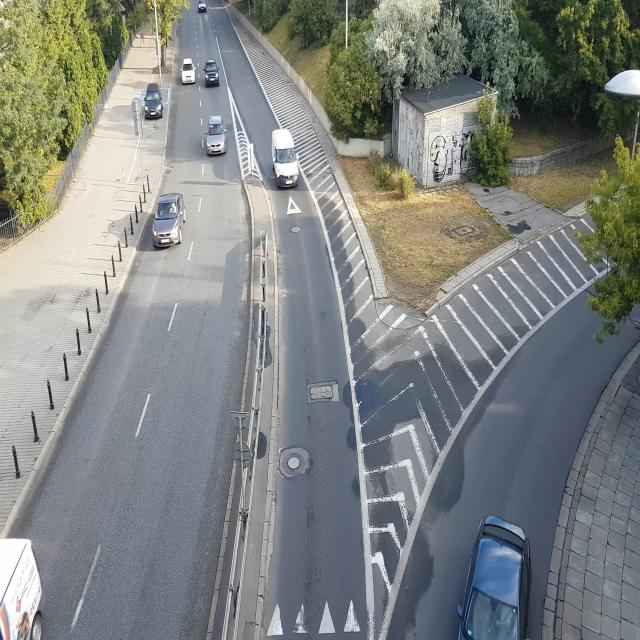car: (448, 495, 543, 640), (0, 524, 47, 640), (152, 194, 184, 247), (272, 130, 300, 187), (205, 116, 227, 156), (143, 88, 165, 120), (181, 60, 197, 83), (204, 60, 218, 86), (198, 2, 208, 13)
